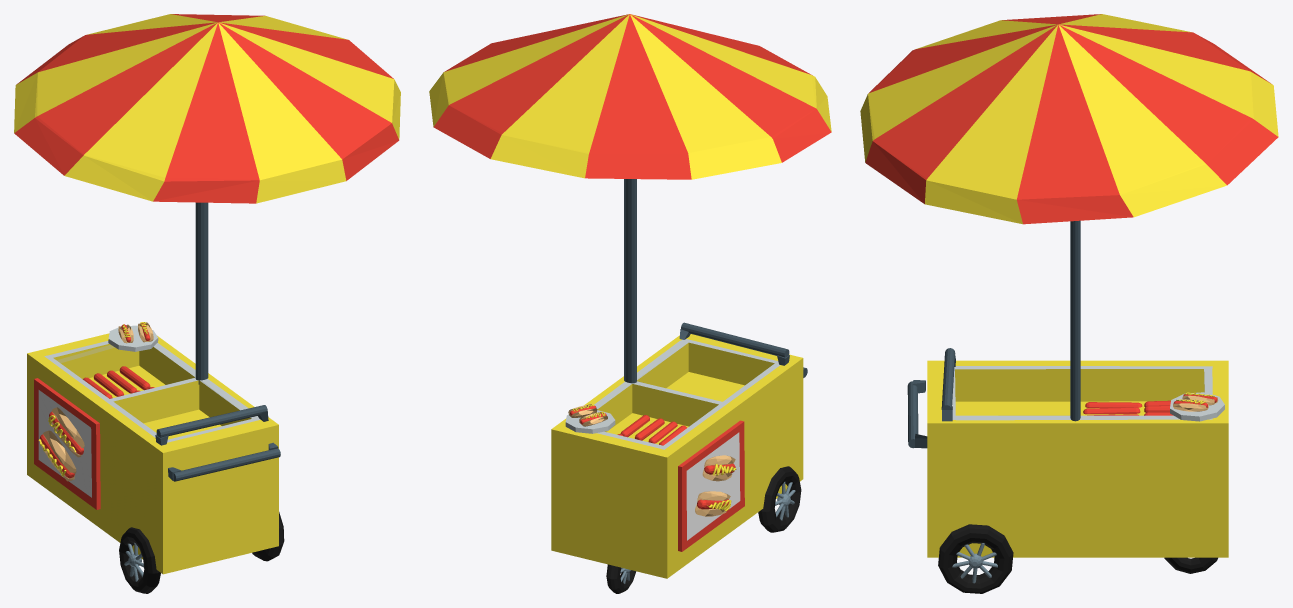
The model's file is stand.glb.
The picture shows the model from 3 angles, left to right: view 1: azimuth 30°, elevation 25°; view 2: azimuth 150°, elevation 25°; view 3: azimuth 270°, elevation 25°; orthographic projection. The views are drawn at different scales.
Visible parts, largest first — view 1: Node; view 2: Node; view 3: Node.
Boxes of the visible parts, left/top/right/bottom form: Node: left=14, top=14, right=400, bottom=593; Node: left=429, top=14, right=831, bottom=593; Node: left=860, top=14, right=1278, bottom=593.
Bounding box in the file's own units: 0.863 × 1.25 × 0.8181.
